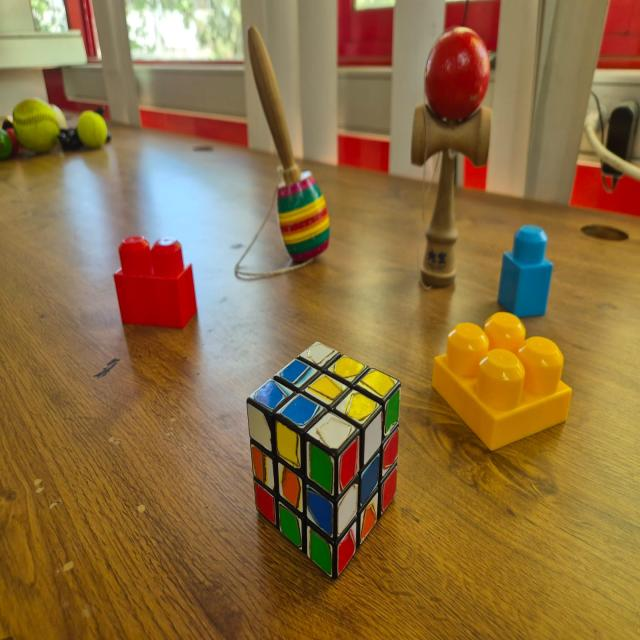balero: (235, 24, 329, 282)
balero ball: (408, 19, 493, 292)
lego 2: (112, 235, 198, 329)
lego 4: (430, 315, 571, 447)
lego_1: (497, 224, 554, 315)
rubick: (243, 342, 403, 581)
softball ball: (11, 98, 60, 154)
tenis ball: (77, 110, 108, 148)
